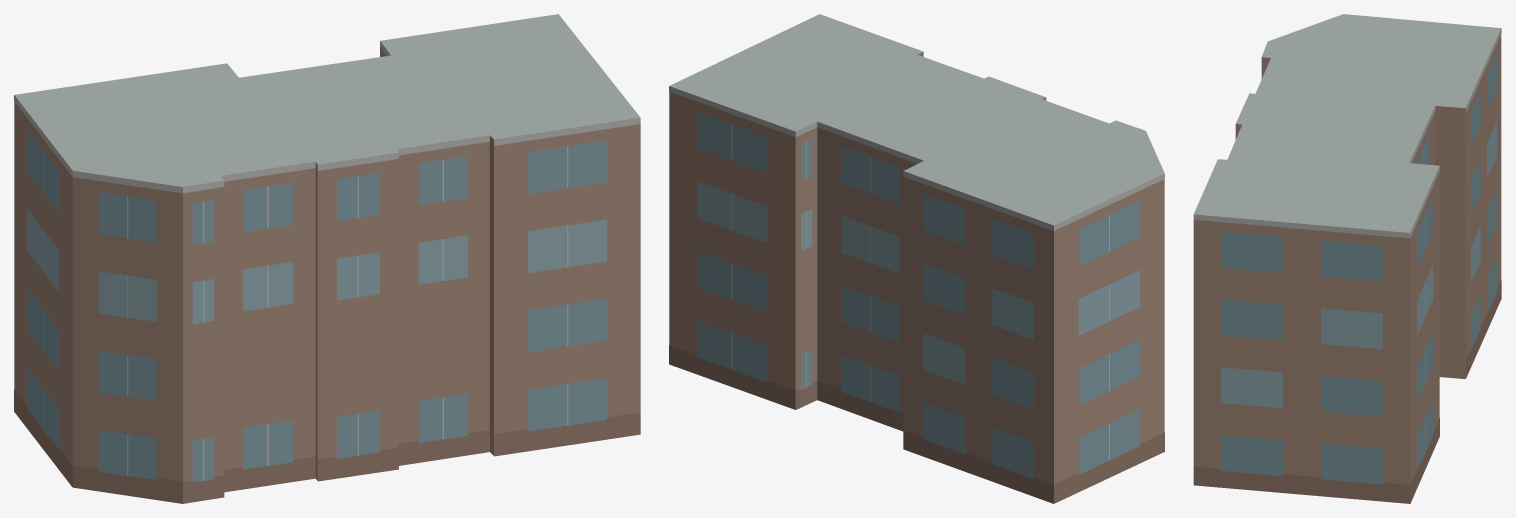
Rendered from survey-upis-32531608.glb.
3 renders of one model, left to right at view 1: azimuth 30°, elevation 25°; view 2: azimuth 150°, elevation 25°; view 3: azimuth 270°, elevation 25°, orthographic. The views are drawn at different scales.
Visible parts, largest first — view 1: survey-upis-32531608.tmp; view 2: survey-upis-32531608.tmp; view 3: survey-upis-32531608.tmp.
Boxes of the visible parts, box(x1,y1,x2,y2) form: survey-upis-32531608.tmp: box(14, 14, 640, 503); survey-upis-32531608.tmp: box(669, 14, 1164, 503); survey-upis-32531608.tmp: box(1193, 14, 1501, 503).
Bounding box in the file's own units: 21.17 × 12.2 × 12.58.
